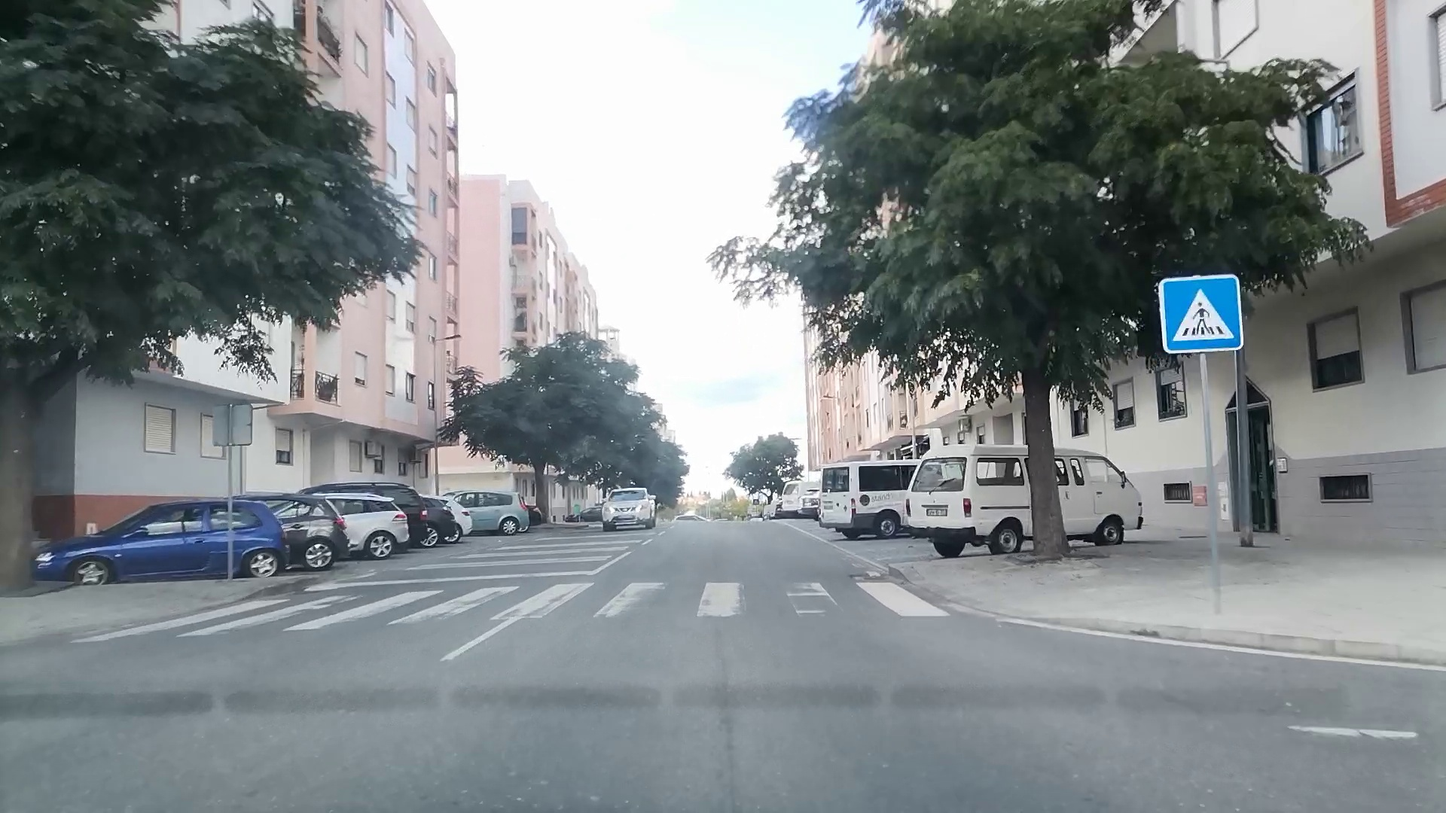Stairs: (68, 582, 945, 644)
